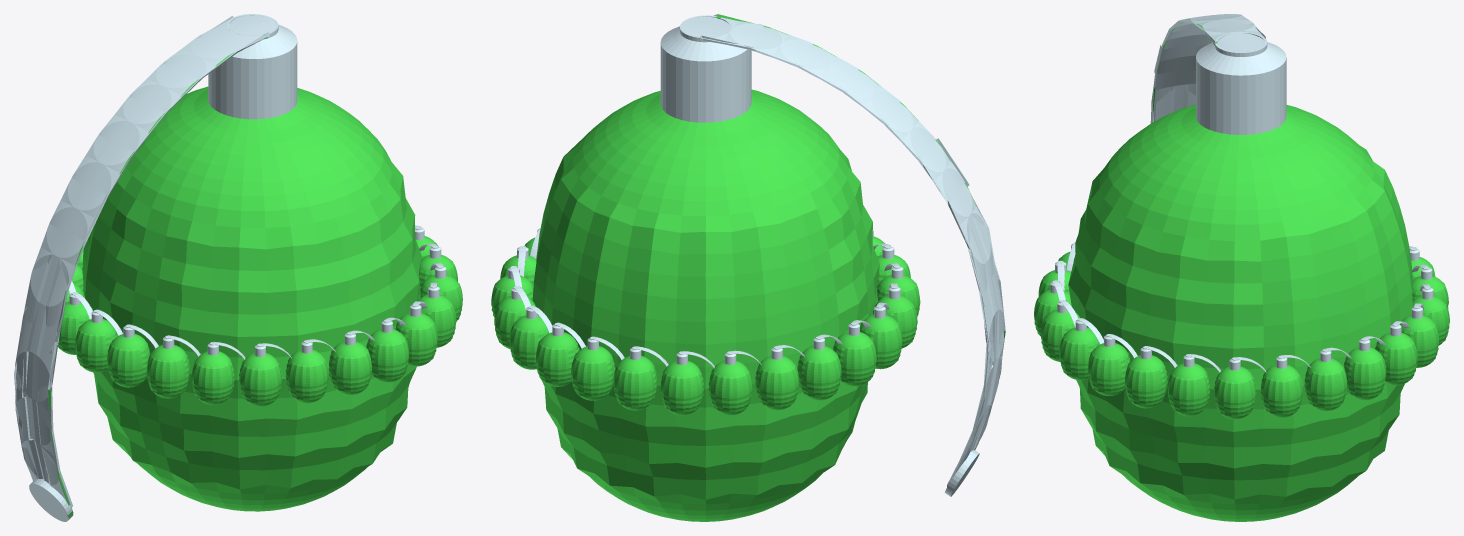
The model's file is FirePickup.fbx_Grenade.fbx.
3 renders of one model, left to right at view 1: azimuth 30°, elevation 25°; view 2: azimuth 150°, elevation 25°; view 3: azimuth 270°, elevation 25°, orthographic. The views are drawn at different scales.
Visible parts, largest first — view 1: Sphere.002, Sphere.001; view 2: Sphere.002, Sphere.001; view 3: Sphere.002, Sphere.001.
Boxes of the visible parts, x1,y1,x2,y2 form: Sphere.002: [14, 14, 421, 521]; Sphere.001: [58, 225, 462, 406]; Sphere.002: [532, 14, 1005, 521]; Sphere.001: [491, 228, 920, 415]; Sphere.002: [1068, 14, 1412, 521]; Sphere.001: [1034, 242, 1449, 419].
Bounding box in the file's own units: 198 × 203 × 164.
